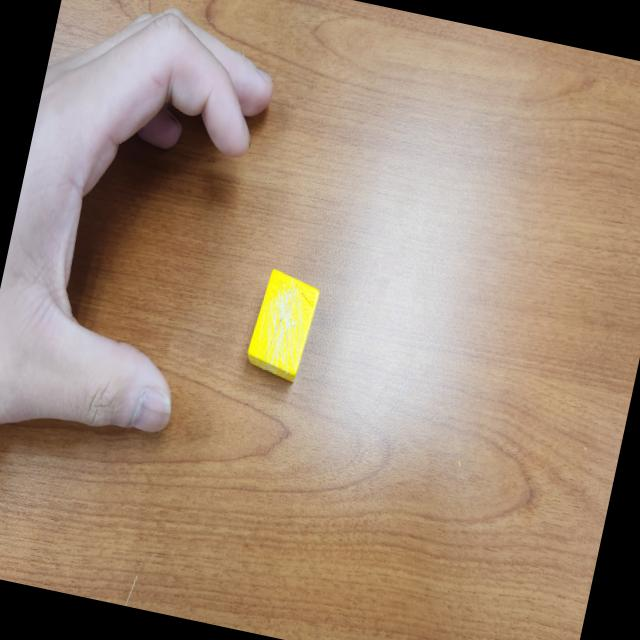broken: (241, 266, 321, 388)
